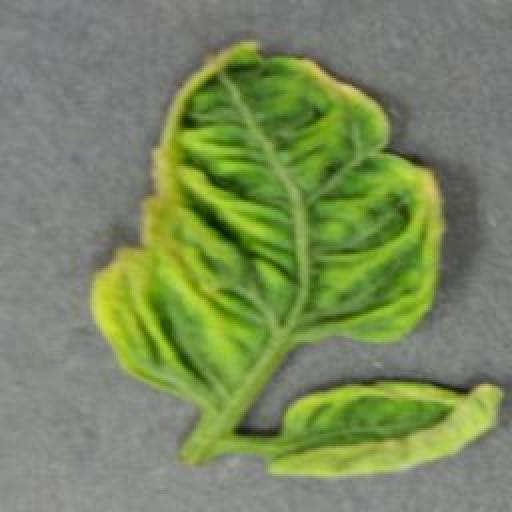Yellow Leaf Curl Virus: (87, 37, 448, 396), (270, 372, 506, 477)
